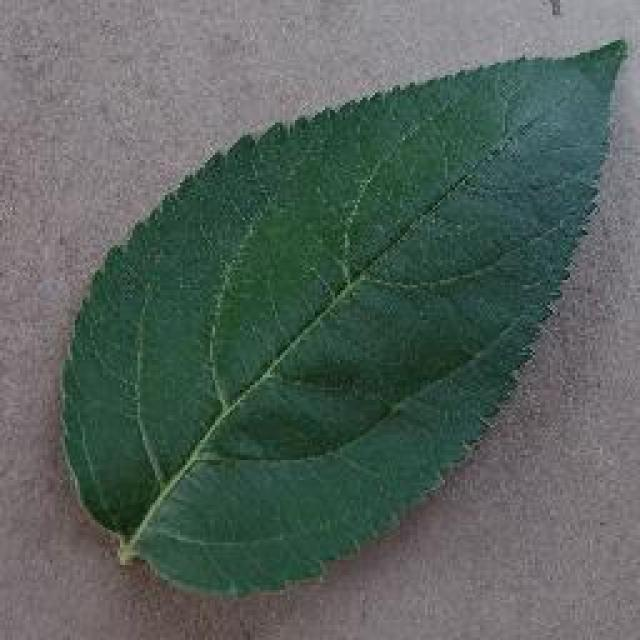Apple___healthy: (53, 38, 629, 604)
